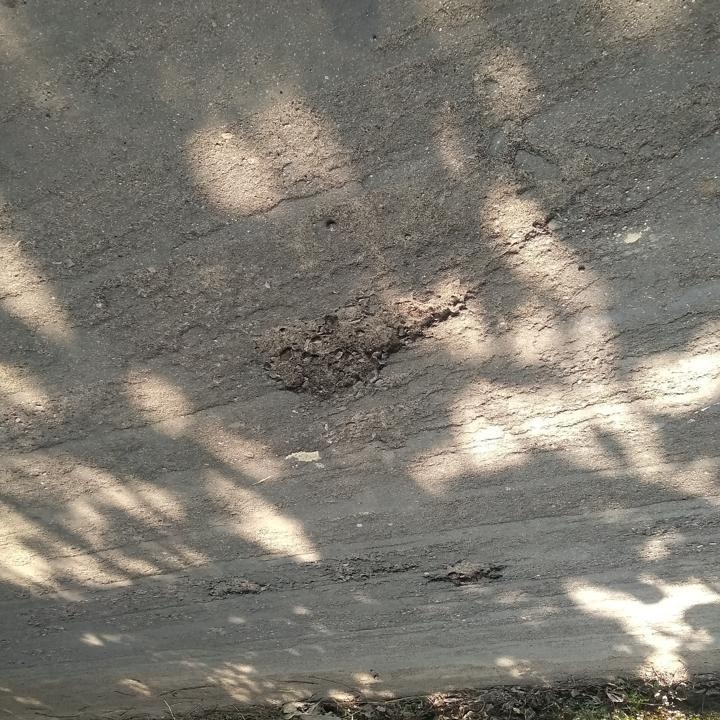pothole: (249, 279, 474, 401), (420, 556, 507, 590), (200, 575, 272, 600)
